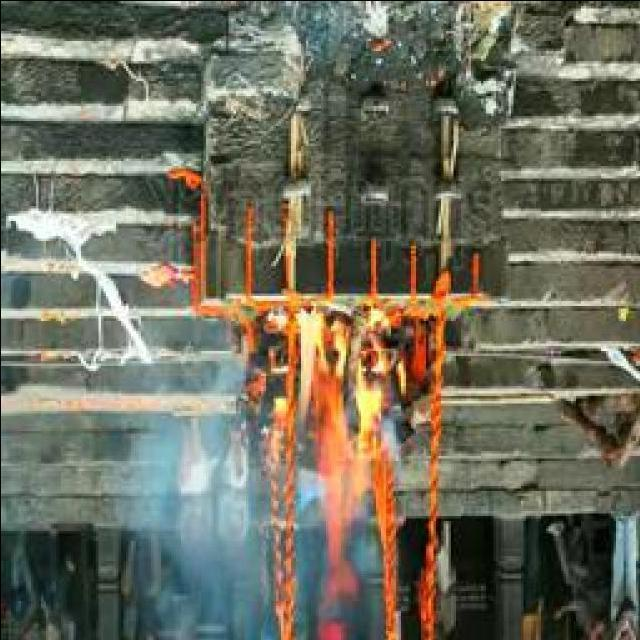Fire: (288, 305, 385, 519)
